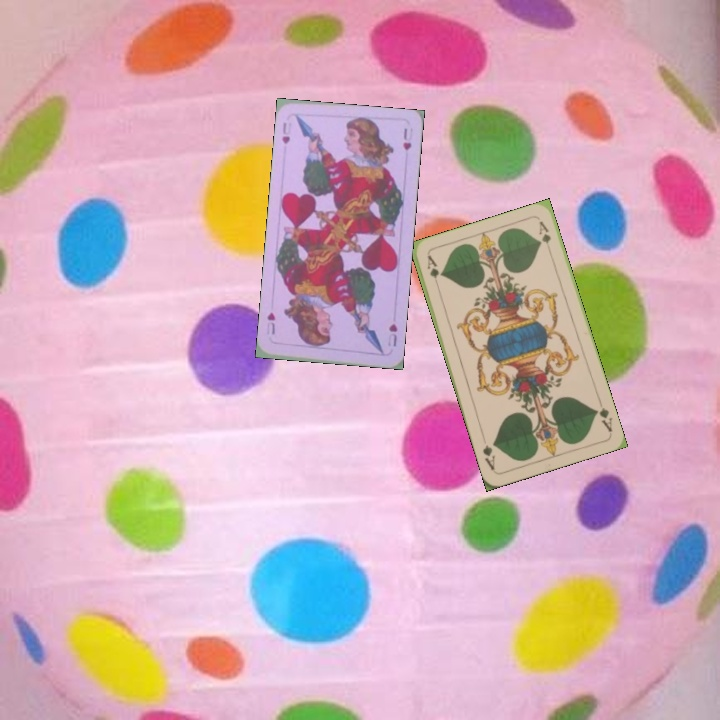GA: (591, 395, 615, 434), (423, 252, 442, 292)
HU: (384, 319, 400, 349), (278, 118, 294, 146)
